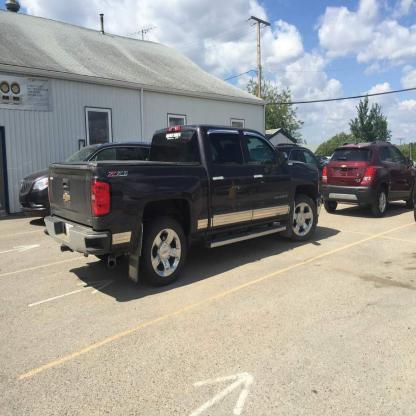Car: (17, 140, 153, 213), (319, 138, 415, 219)
Truck: (44, 124, 322, 287)
